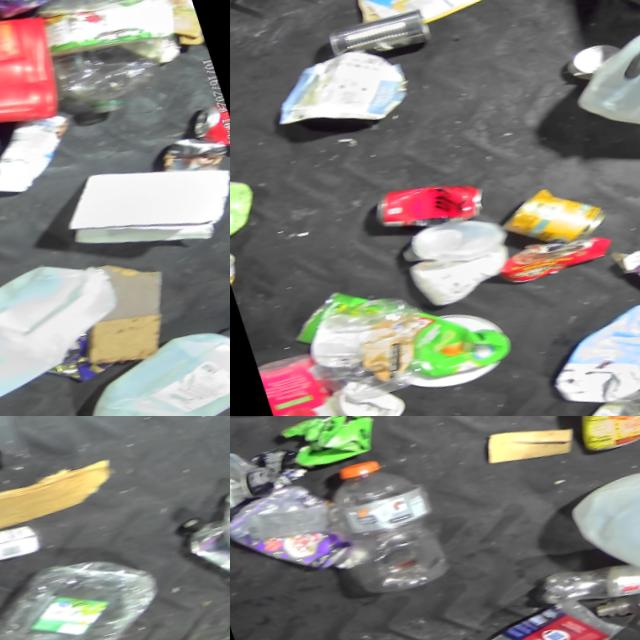can: (486, 169, 611, 257), (362, 166, 489, 241), (324, 3, 434, 65), (557, 35, 624, 81), (560, 416, 640, 453), (184, 95, 230, 154)
milk_jug: (0, 240, 136, 416), (54, 306, 230, 416), (526, 278, 640, 414), (555, 0, 640, 165), (554, 445, 640, 594)
non_white_jug: (0, 0, 71, 158)
plastic_bottle: (309, 444, 449, 601), (30, 0, 200, 121), (527, 529, 640, 615), (170, 502, 230, 580), (209, 469, 230, 593)
